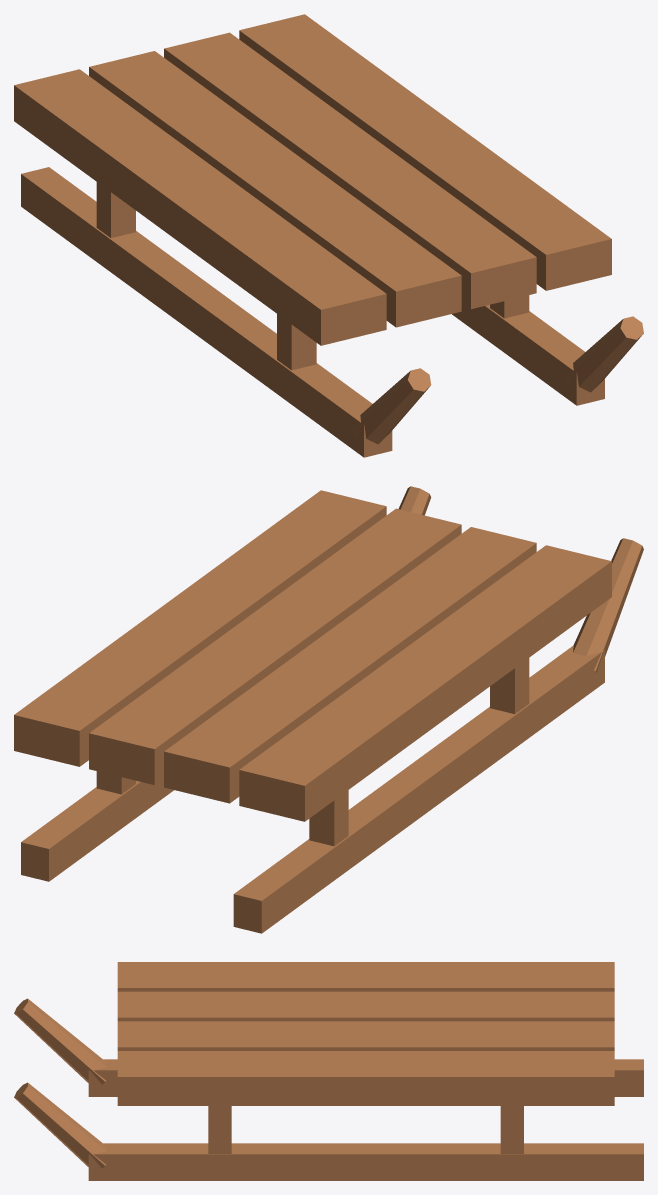
File: turning-seasons-wooden-sled-a60337a9__2158.glb
3 views of the same model, one above another, from view 1: azimuth 30°, elevation 25°; view 2: azimuth 150°, elevation 25°; view 3: azimuth 270°, elevation 25° (orthographic). The views are drawn at different scales.
Parts seen in each view (by area): view 1: wooden-sled; view 2: wooden-sled; view 3: wooden-sled.
Boxes of the visible parts, <box> form: wooden-sled: <box>14,14,643,457</box>; wooden-sled: <box>14,486,643,933</box>; wooden-sled: <box>14,962,643,1180</box>.
Bounding box in the file's own units: 0.465 × 0.2149 × 1.08.
